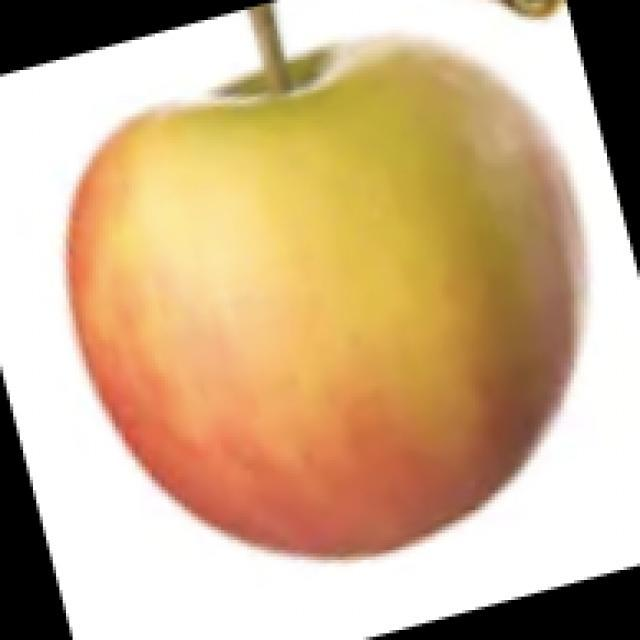Fresh Apple: (56, 53, 572, 542)
